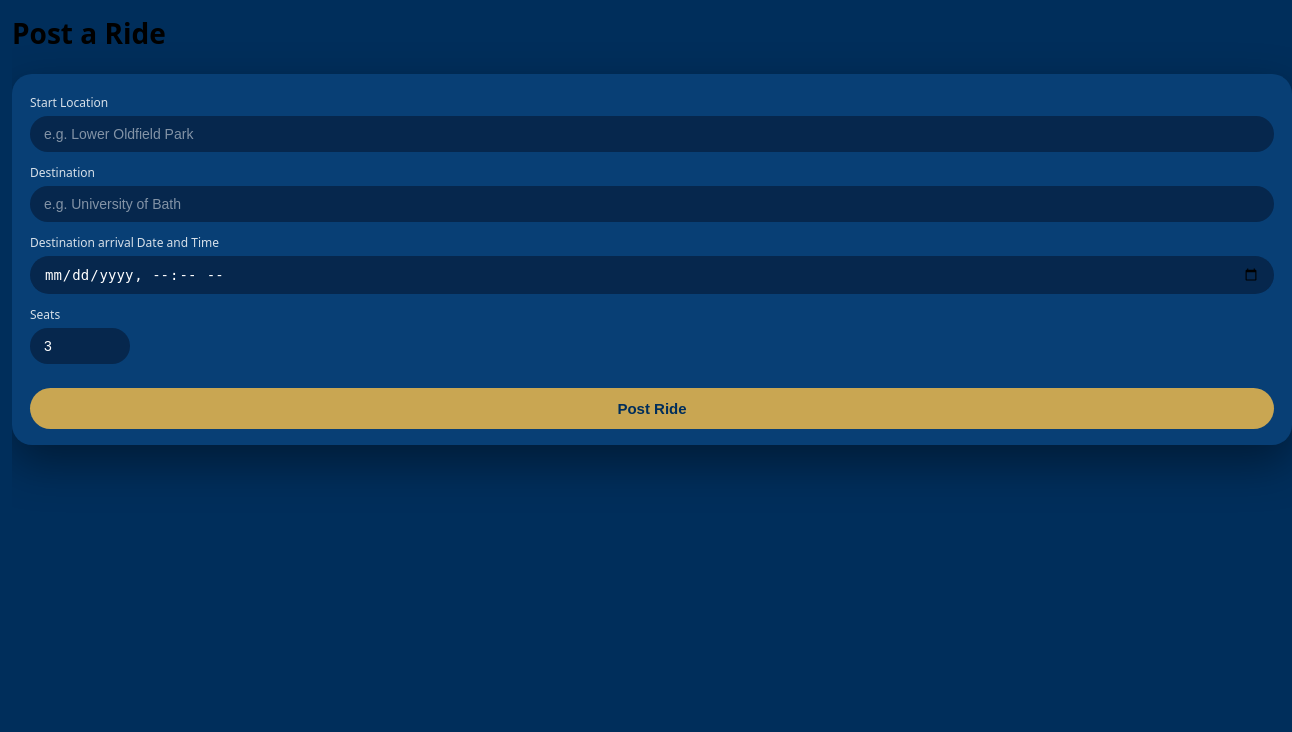
it: PostRidePage › shows an auth error before geocoding when no token is available
Type "Oldfield Park" into the field labelled "Start Location" at [652, 134], box [30,116,1274,152]
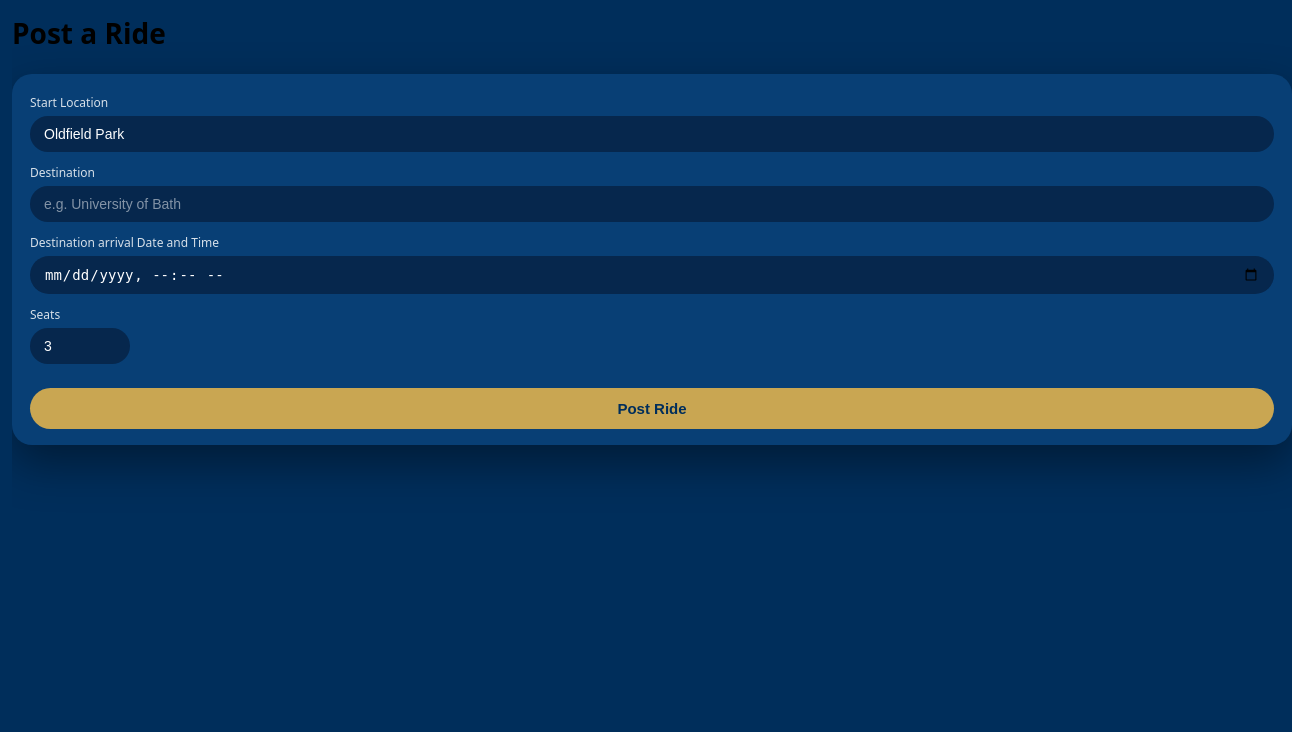
Type "University of Bath" into the field labelled "Destination" at [652, 204], box [30,186,1274,222]
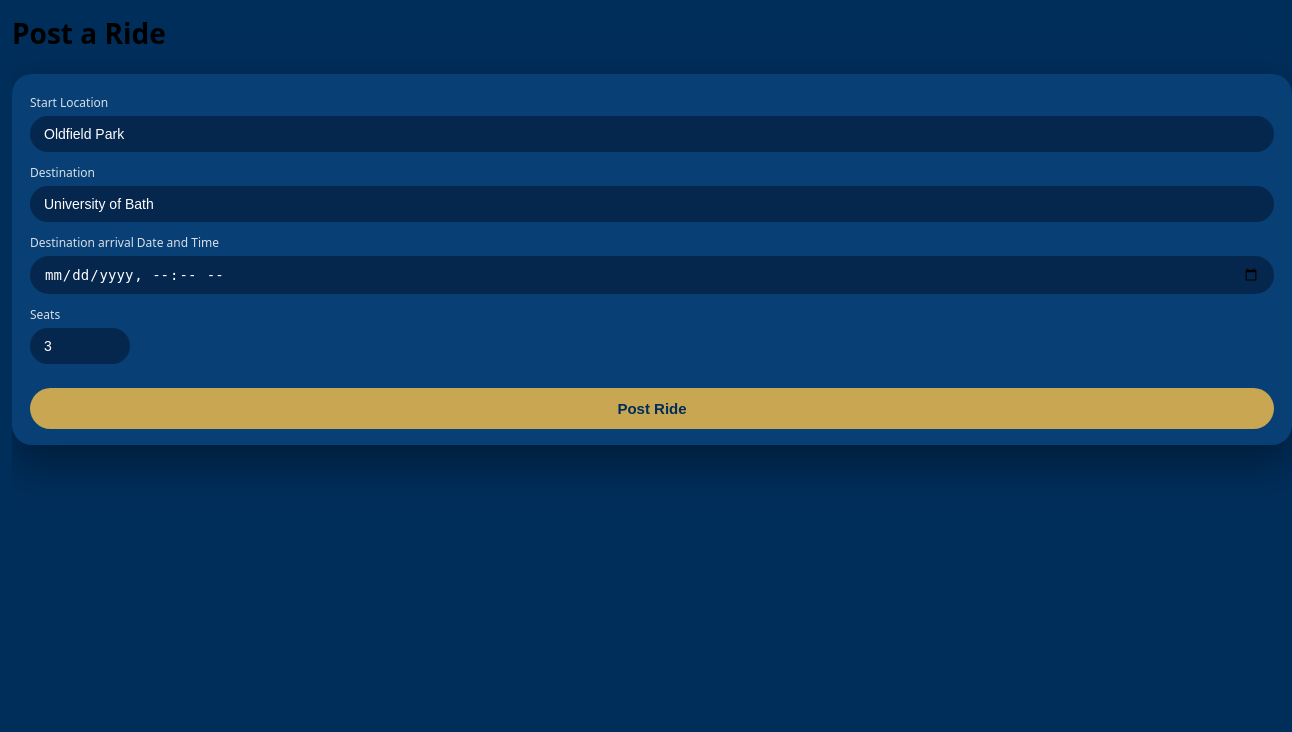
Type "2026-10-10T12:00" into the field labelled "Destination arrival Date and Time" at [652, 275], box [30,256,1274,294]
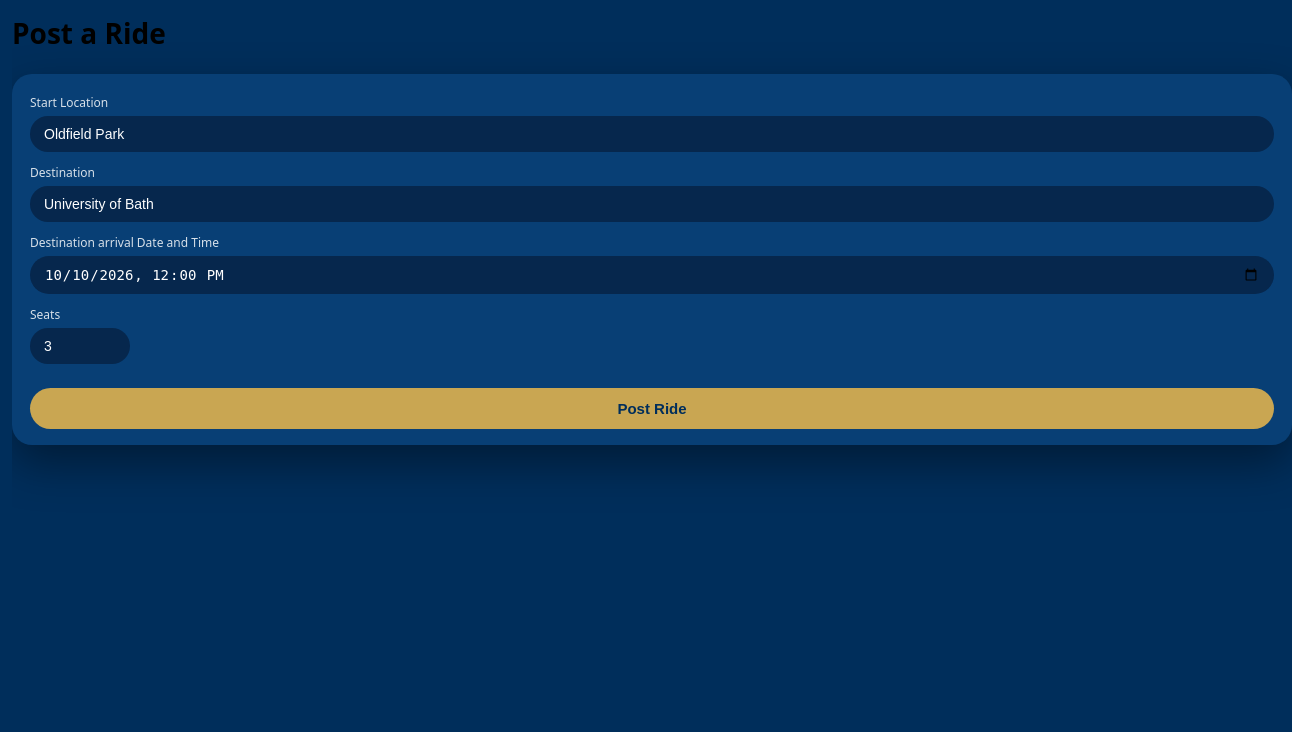
Replace the text in the number field labelled "Seats" with "4" at [80, 346], box [30,328,130,364]
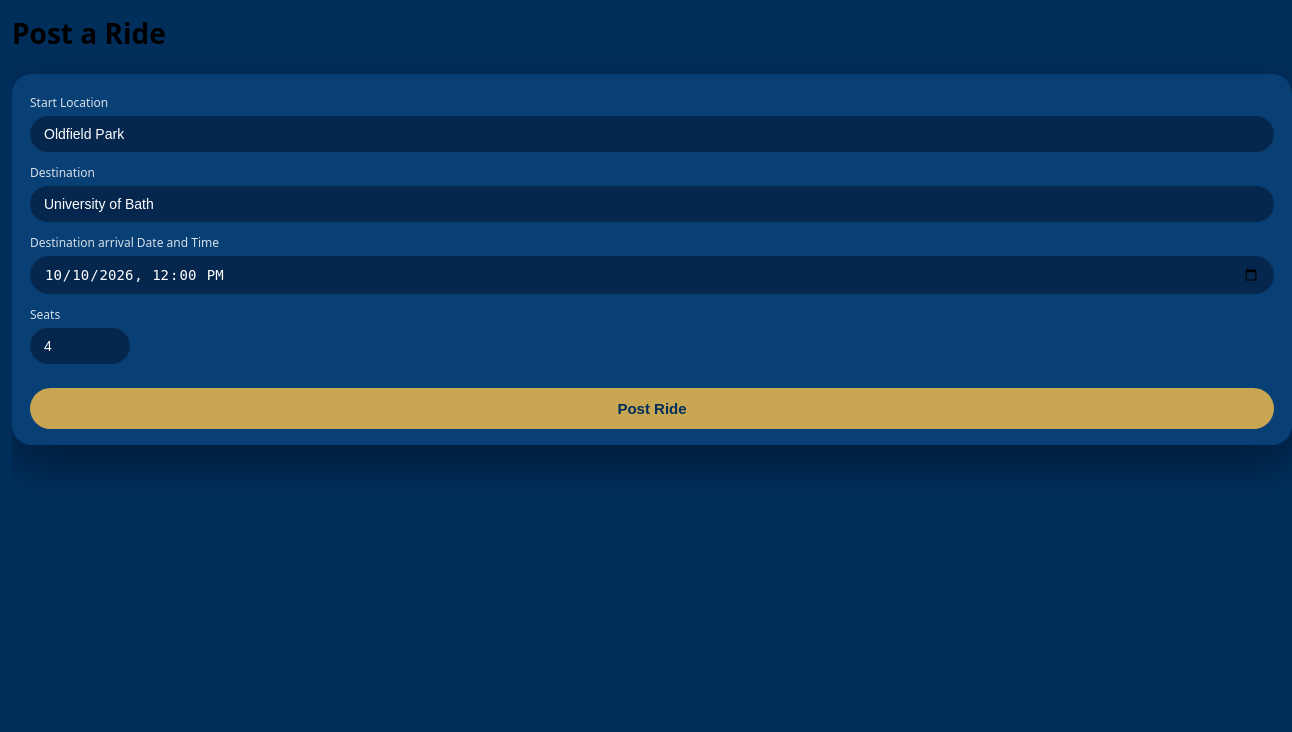
Click the button "Post Ride" at [652, 408], box [30,388,1274,429]
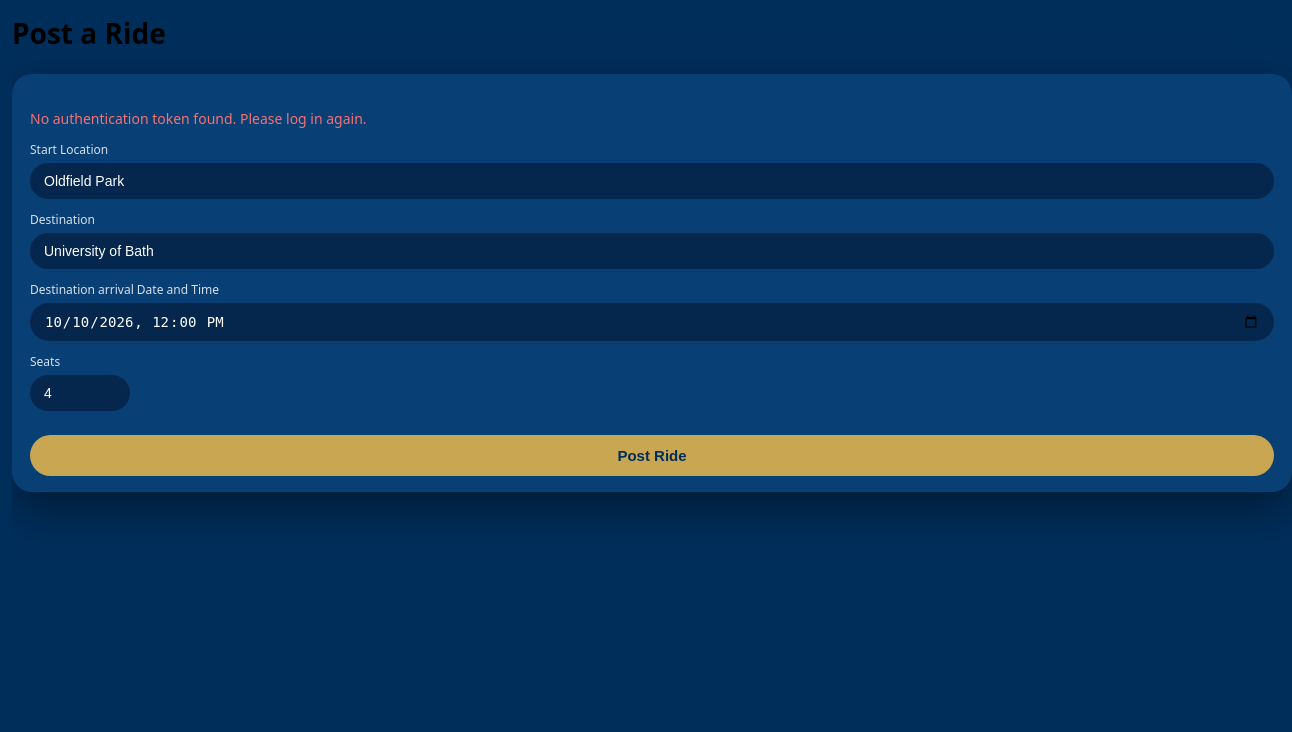
Expected: the text "No authentication token found. Please log in again." is shown, [30,109,367,128]
